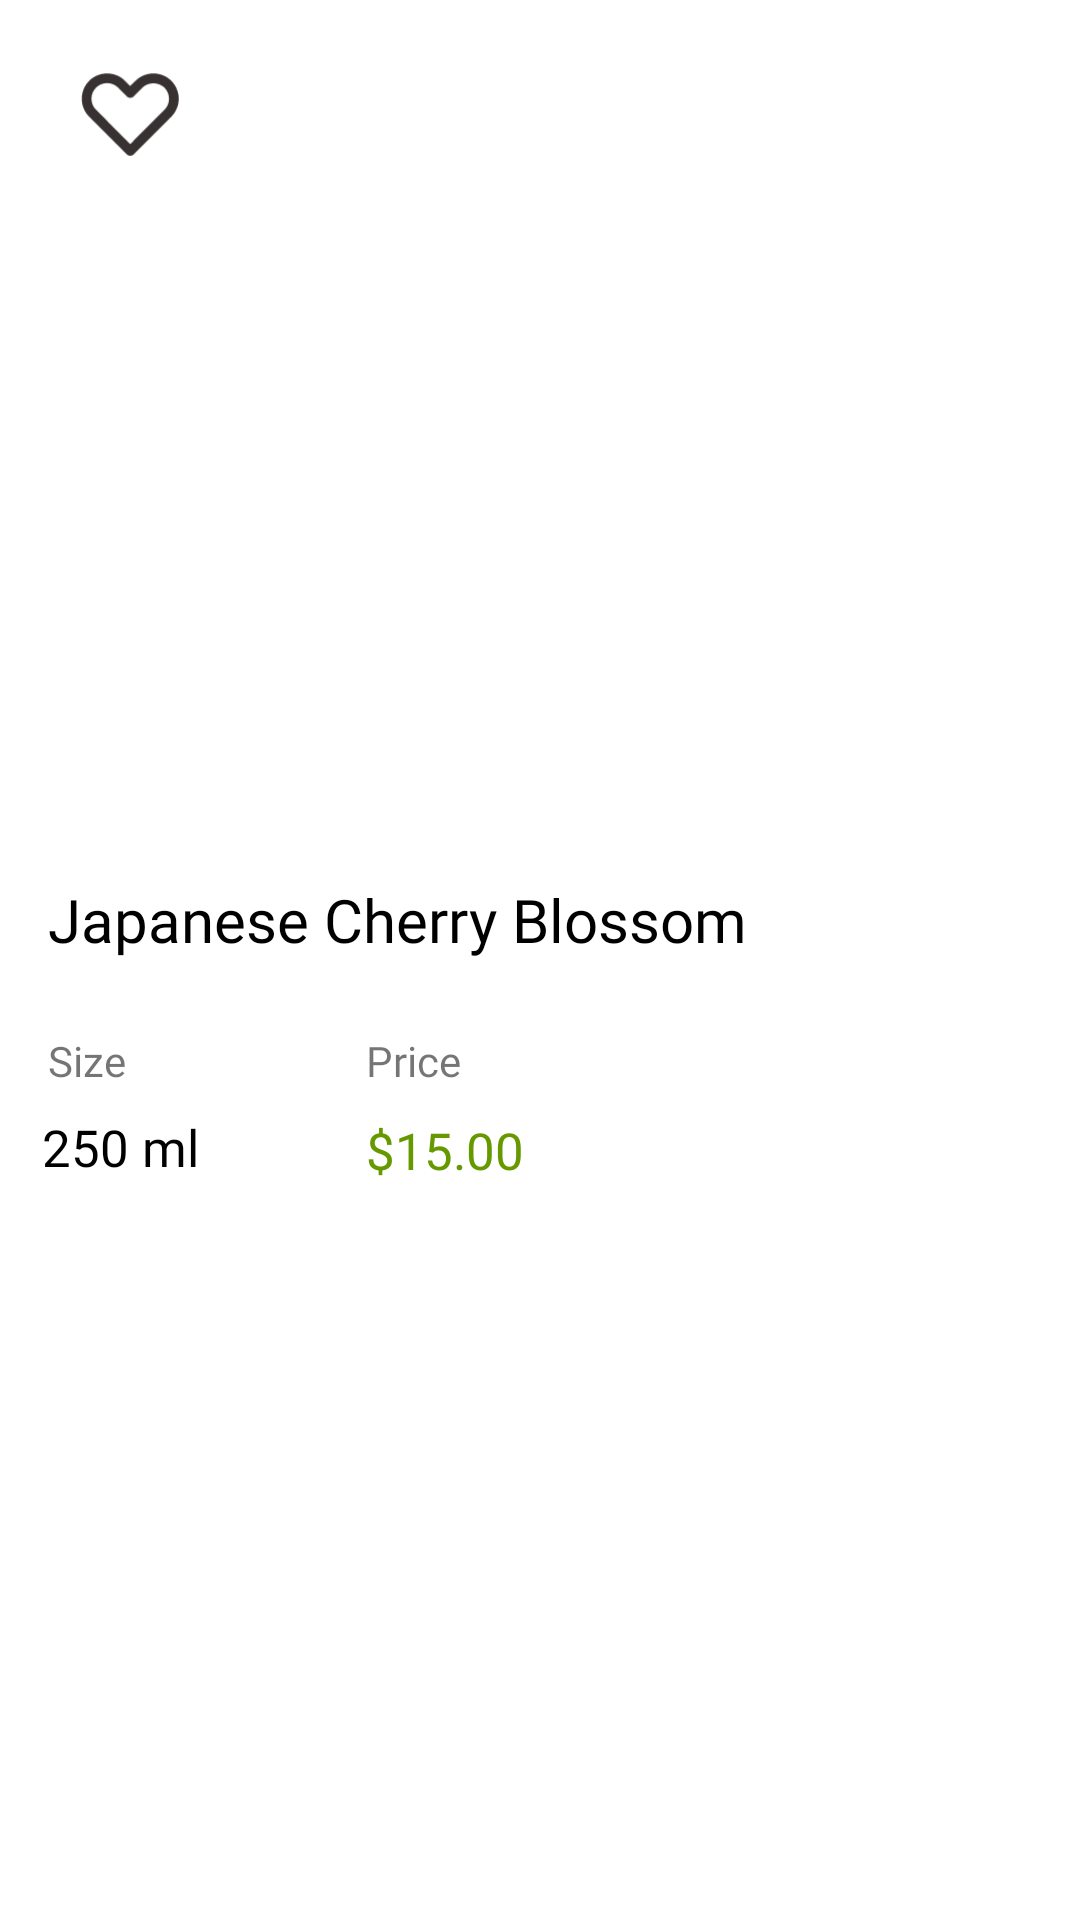

Where icons sit on this 1080w x 1920h app screen, as box(x1, y1, x2, y2):
heart: box(81, 73, 179, 156)
